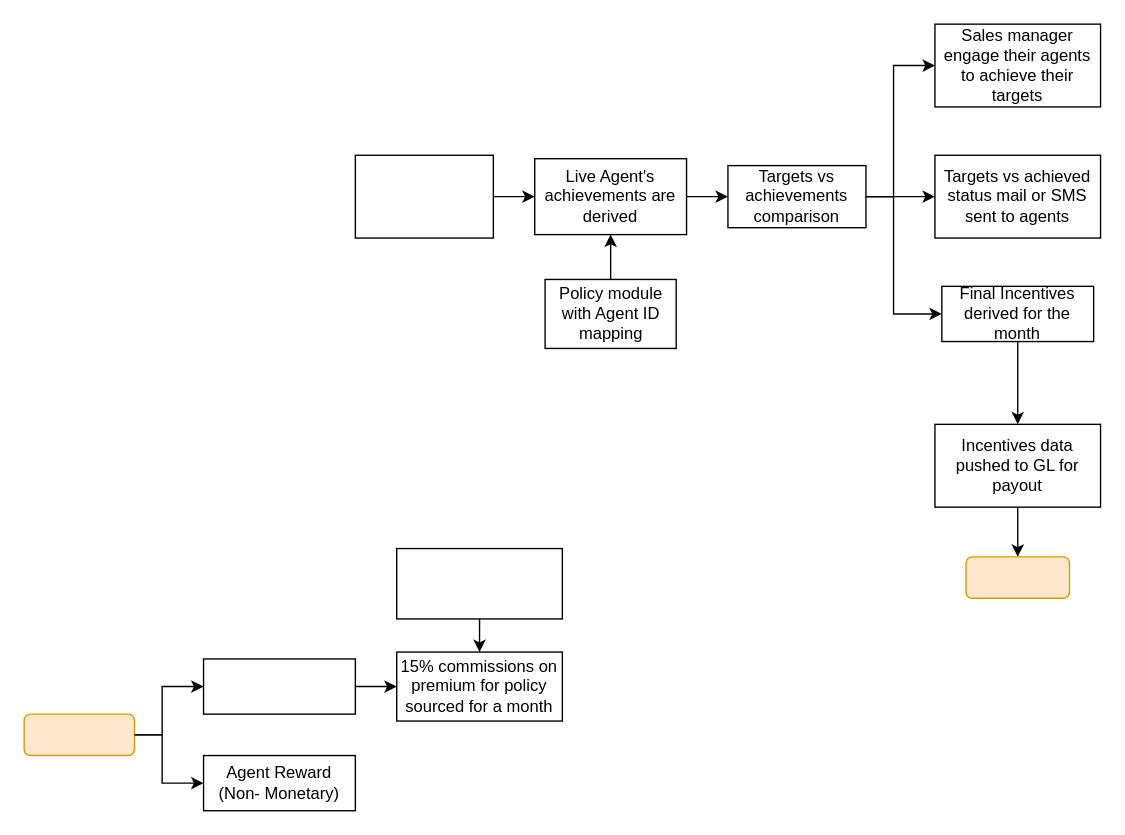
The diagram is 1125 pixels wide and 835 high, and some of its shapes have lost their labels. The centre of each missing label's shape, as x and y in pixels:
"Agent Commission (Monetary)" belongs at pixel 278 686.
"Agent targets are loaded in CRM" belongs at pixel 423 196.
"Commission and reward depends on premium bracket" belongs at pixel 478 583.
"End" belongs at pixel 1017 576.
"Start" belongs at pixel 79 734.
